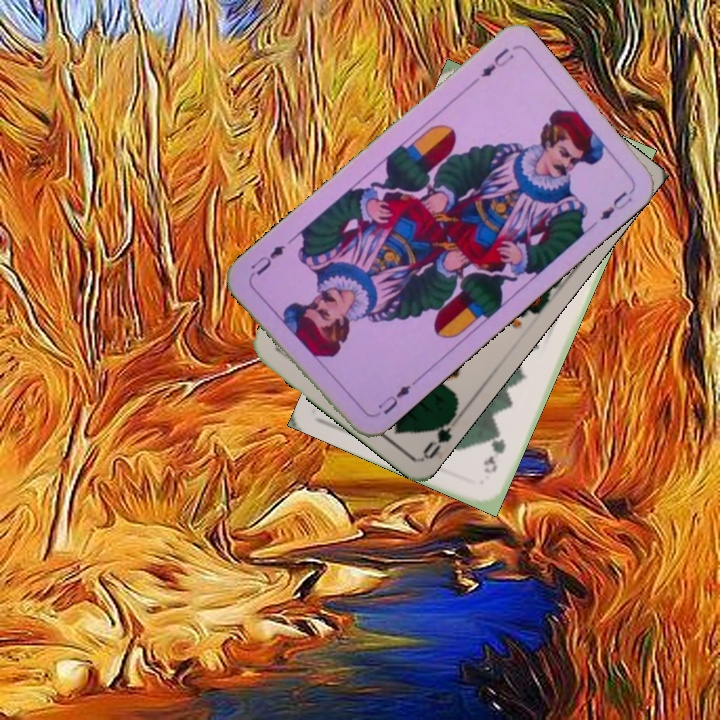EU: (374, 380, 414, 417), (477, 43, 517, 80)
G9: (480, 427, 509, 476)
GO: (418, 407, 464, 462)
